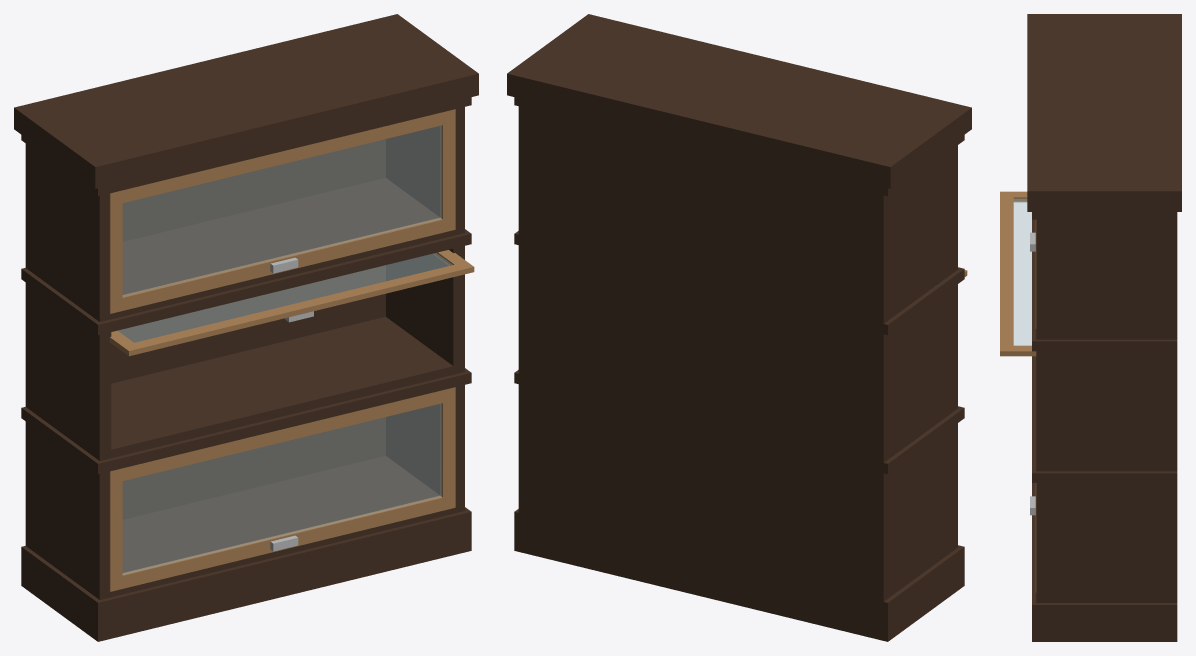
The model's file is FN_Bookcase_Barrister.obj.
3 renders of one model, left to right at view 1: azimuth 30°, elevation 25°; view 2: azimuth 150°, elevation 25°; view 3: azimuth 270°, elevation 25°, orthographic. The views are drawn at different scales.
Visible parts, largest first — view 1: FN_Bookcase_Barrister; view 2: FN_Bookcase_Barrister; view 3: FN_Bookcase_Barrister.
Part boxes in pixels (x1,y1,x2,y2): FN_Bookcase_Barrister: (14,14,478,641); FN_Bookcase_Barrister: (507,14,971,641); FN_Bookcase_Barrister: (1000,14,1181,641).
Size of the model in its own units: 0.924 by 1.1 by 0.4.
Materials: 2 (1 with a texture image).
